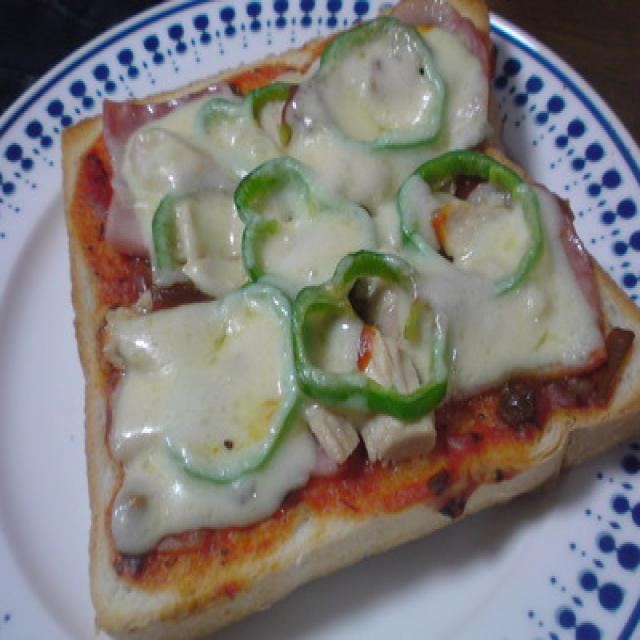面包点心: (10, 12, 632, 634)
